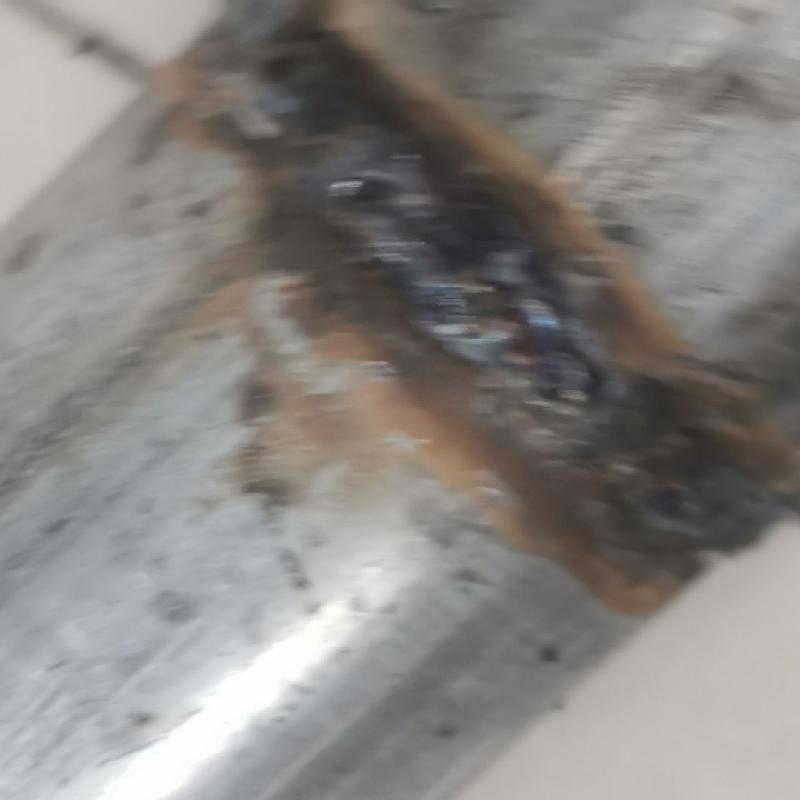Surface_pores: (258, 36, 306, 90)
crater: (387, 228, 599, 424)
